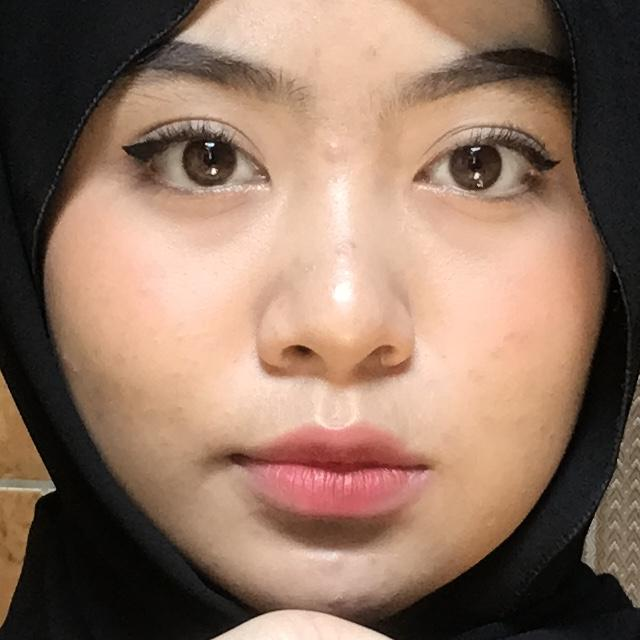sedih: (0, 456, 610, 640)
